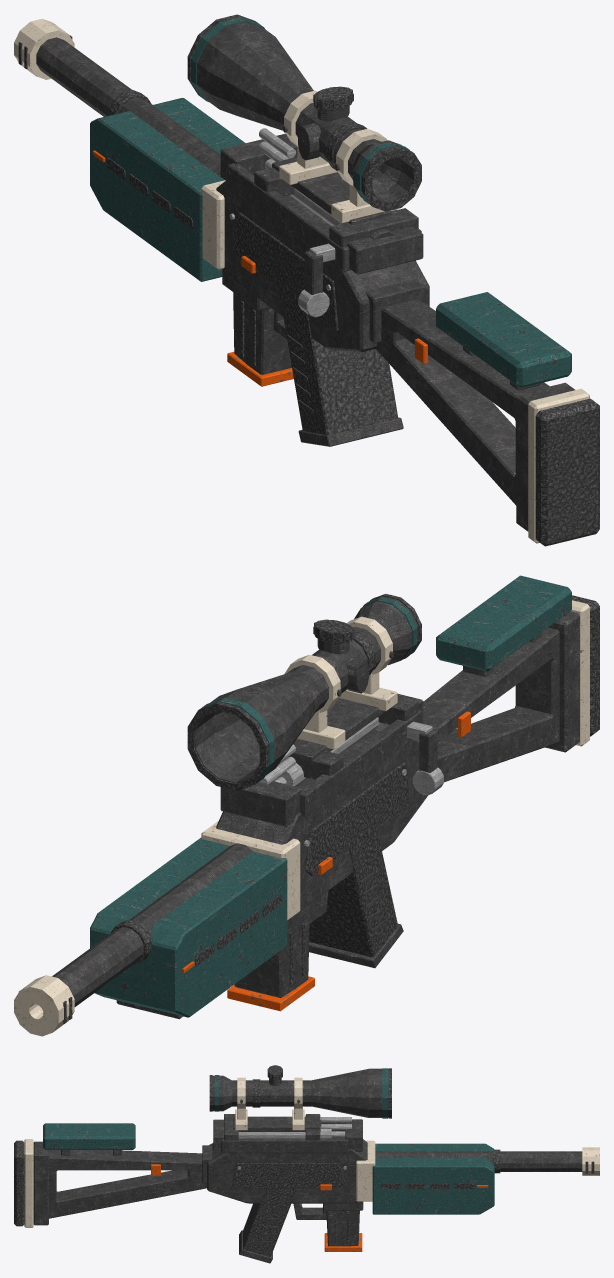
The model's file is peregrine.gltf.
3 views of the same model, one above another, from view 1: azimuth 30°, elevation 25°; view 2: azimuth 150°, elevation 25°; view 3: azimuth 270°, elevation 25° (orthographic). The views are drawn at different scales.
Parts seen in each view (by area): view 1: body, factory-optic, mag, bolt; view 2: body, factory-optic, mag, bolt; view 3: body, factory-optic, mag, bolt.
Boxes of the visible parts, x1,y1,x2,y2 form: body: [14, 18, 599, 546]; factory-optic: [187, 14, 421, 224]; mag: [227, 292, 293, 386]; bolt: [290, 188, 395, 317]; body: [14, 575, 599, 1036]; factory-optic: [187, 594, 421, 790]; mag: [227, 916, 314, 1011]; bolt: [280, 717, 443, 795]; body: [14, 1114, 599, 1263]; factory-optic: [209, 1065, 391, 1131]; mag: [324, 1210, 362, 1251]; bolt: [219, 1124, 331, 1138].
Bounding box in the file's own units: 0.144 × 0.4042 × 1.17.
Materials: 6 (6 with a texture image).
